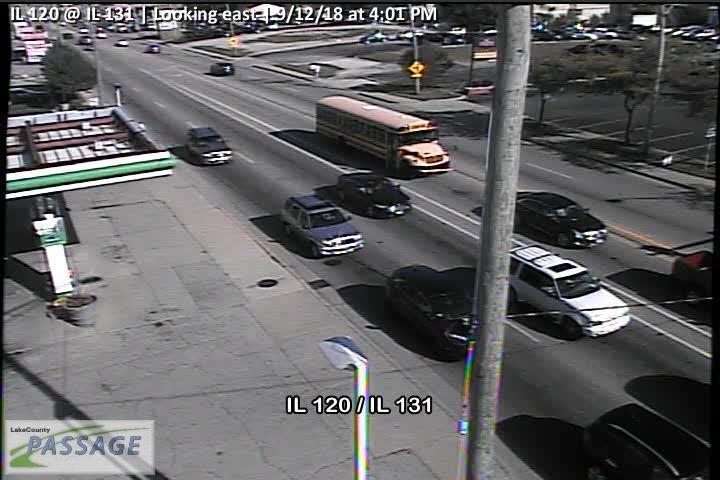SUV: (505, 245, 632, 340), (571, 402, 720, 480), (280, 194, 366, 258), (185, 126, 232, 166)
Sedan: (382, 264, 477, 361), (339, 170, 409, 219), (210, 61, 235, 76)
Truck: (314, 95, 452, 177)
